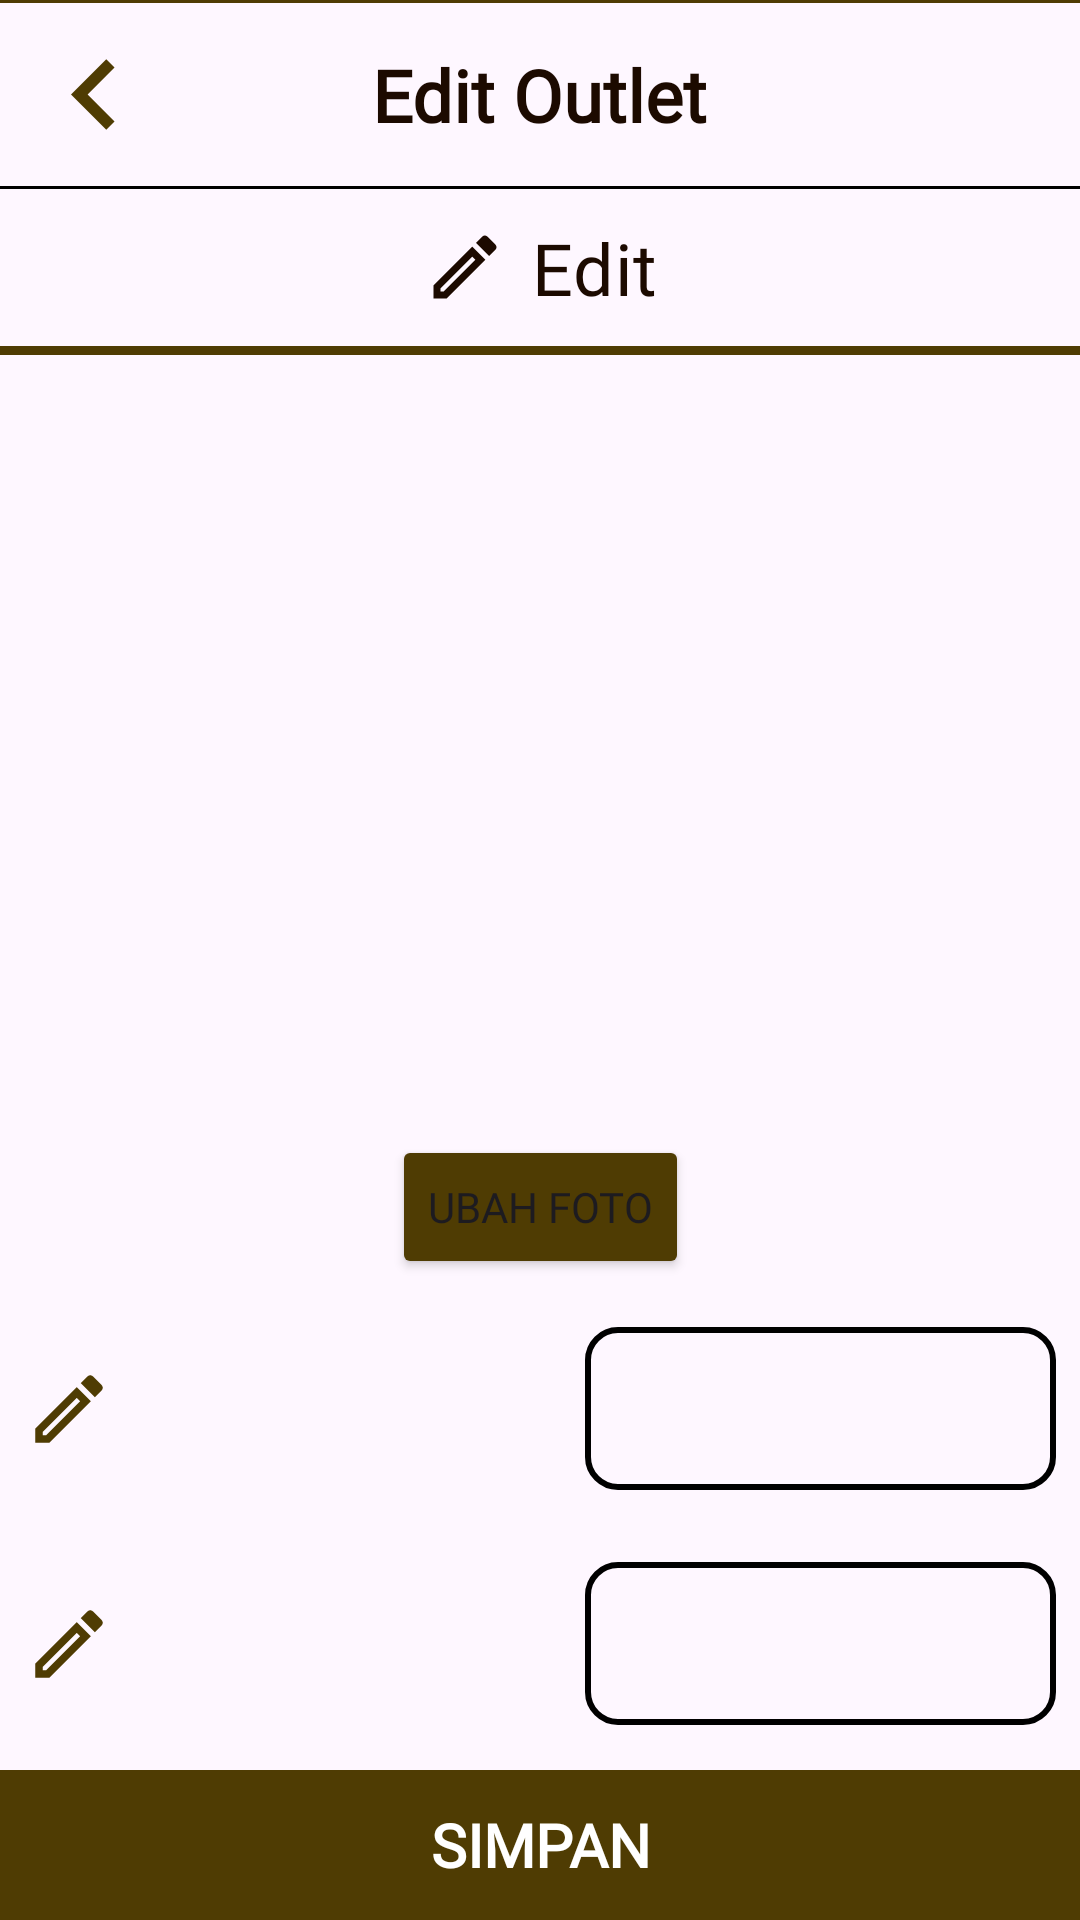

Screen size 1080px x 1920px. Icon name, then its box in pixels as (x1, y1, x2, y2):
back: (71, 59, 115, 130)
